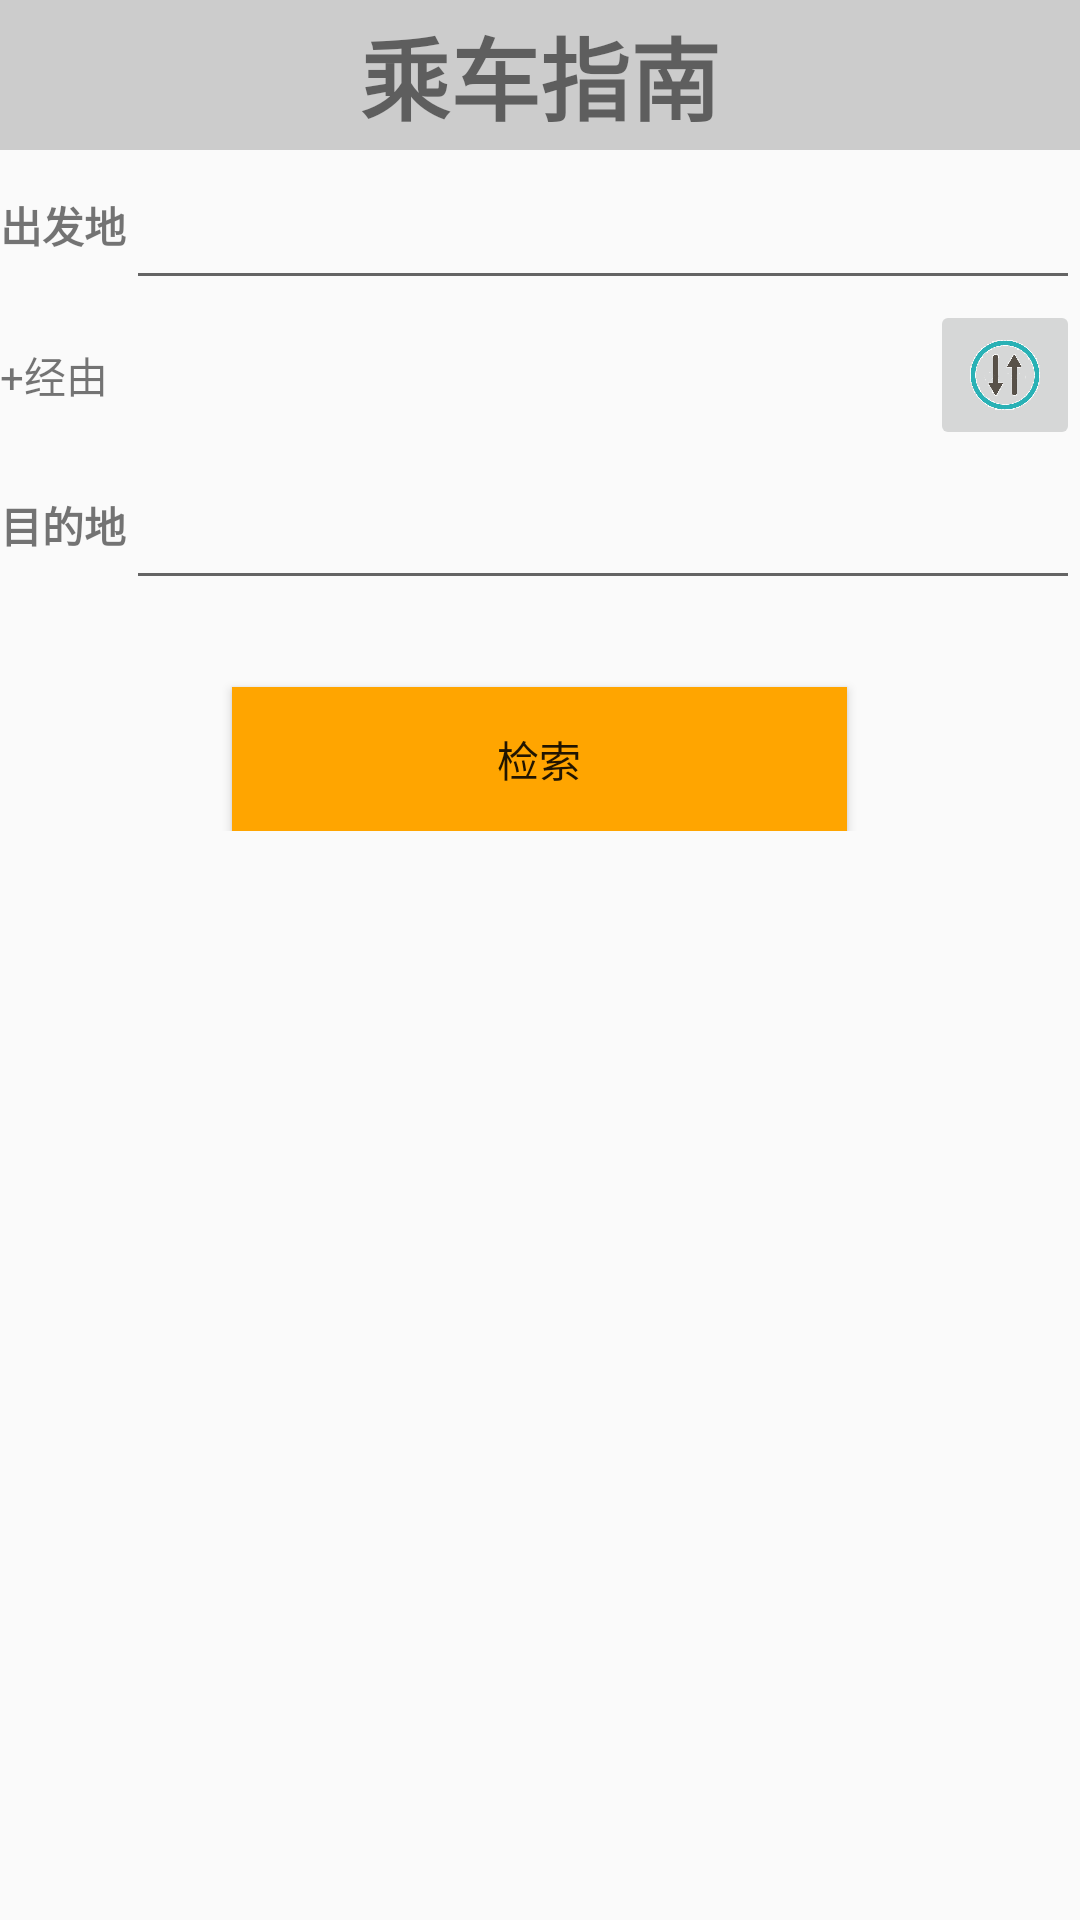

Locate icon controls on the screen. Image size 1080px x 1920px, boxes as (x1, y1, x2, y2).
rev: (942, 318, 1068, 432)
